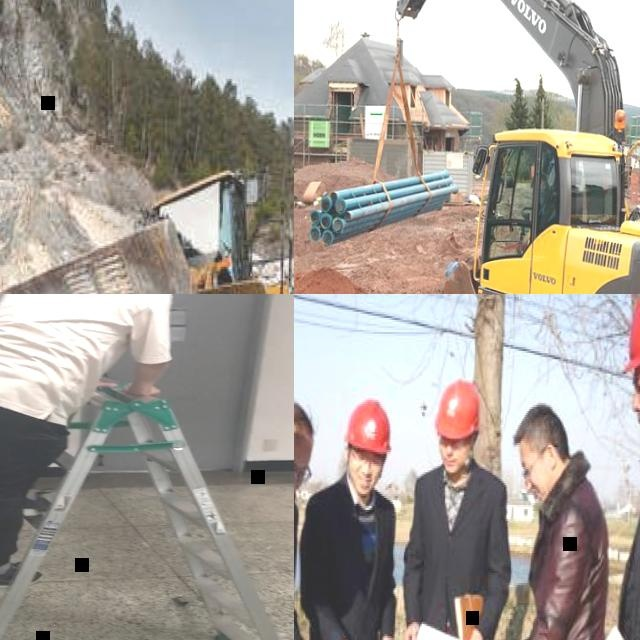Hardhat: (436, 379, 483, 440), (344, 399, 394, 455)
NO-Hardhat: (513, 403, 564, 442), (294, 397, 315, 446)
NO-Mask: (532, 463, 555, 504), (350, 469, 377, 498), (443, 452, 469, 476)
NO-Safety Vest: (0, 294, 146, 414), (421, 476, 496, 634), (536, 493, 608, 640), (318, 490, 388, 640)
Person: (0, 294, 200, 585), (482, 400, 610, 640), (400, 376, 515, 640), (295, 395, 398, 640), (522, 171, 555, 251)
Safety Vest: (540, 184, 556, 217)
machinery: (389, 0, 640, 294), (0, 165, 294, 294)
